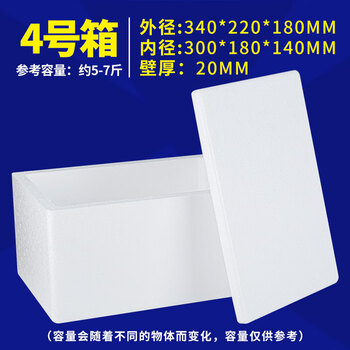Boxes: (12, 71, 338, 322)
